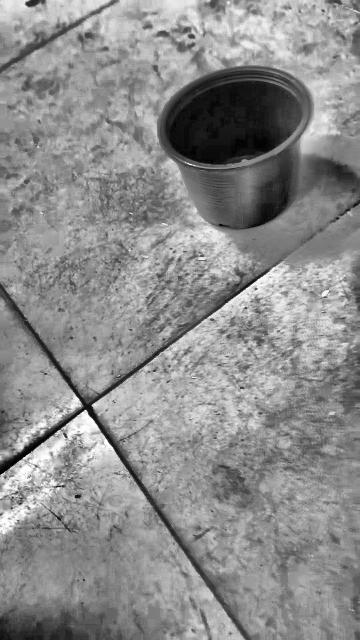pot: (157, 66, 315, 229)
